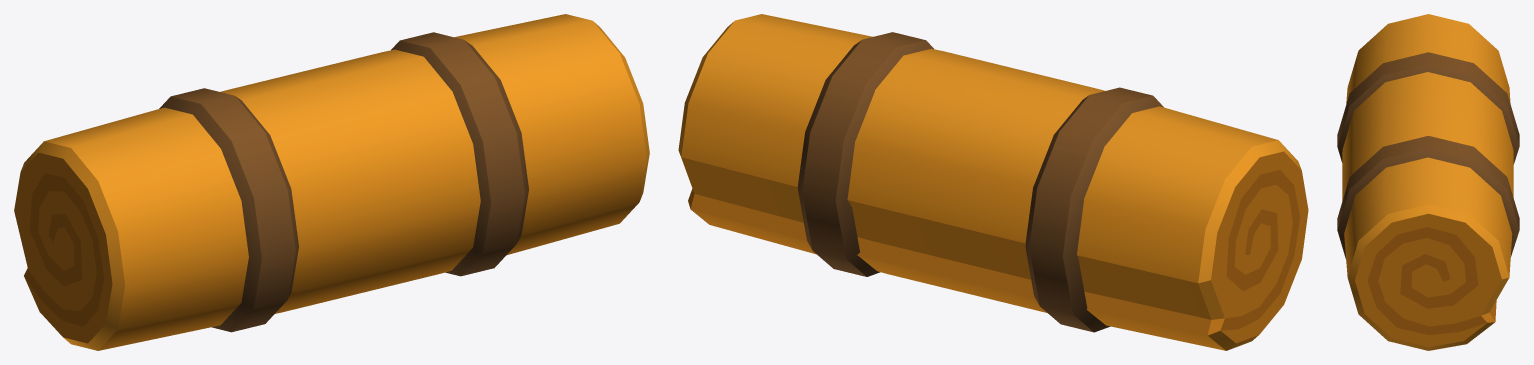
Rendered from SM_SleepingBag_B.fbx.
3 views of the same model, side by side, from view 1: azimuth 30°, elevation 25°; view 2: azimuth 150°, elevation 25°; view 3: azimuth 270°, elevation 25° (orthographic). The views are drawn at different scales.
Parts seen in each view (by area): view 1: SM_SleepingBag_B; view 2: SM_SleepingBag_B; view 3: SM_SleepingBag_B.
Boxes of the visible parts, x1,y1,x2,y2 form: SM_SleepingBag_B: (14, 14, 649, 350); SM_SleepingBag_B: (678, 14, 1308, 350); SM_SleepingBag_B: (1337, 14, 1519, 350).
Size of the model in its own units: 74.68 by 29.34 by 29.34.
